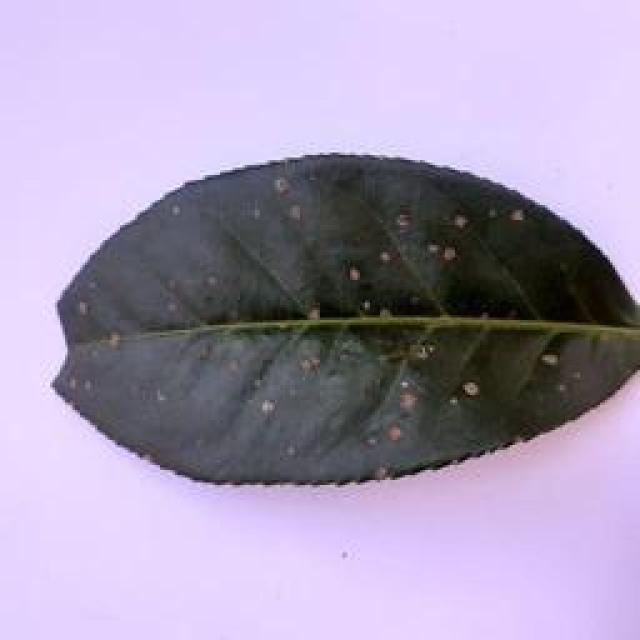Algal Leaf Spot: (48, 141, 640, 501)
